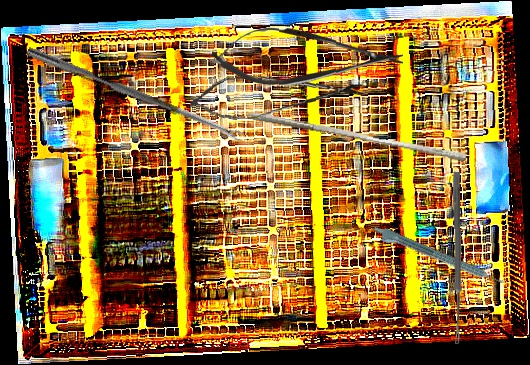Handpiece: (369, 223, 506, 293)
Micro Scissor: (211, 25, 404, 88), (185, 66, 367, 124)
Pusher: (246, 110, 468, 163)
Surgical Spoon: (25, 46, 245, 144), (451, 171, 463, 345)
